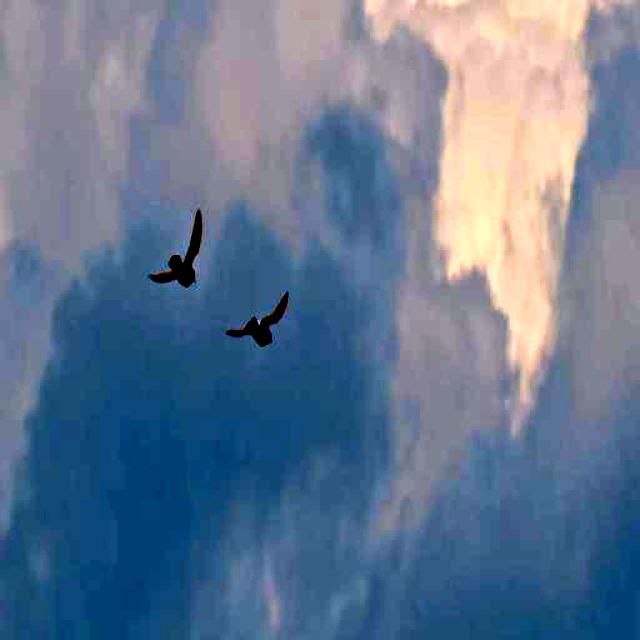airplane: (142, 189, 210, 296), (229, 268, 294, 364)
